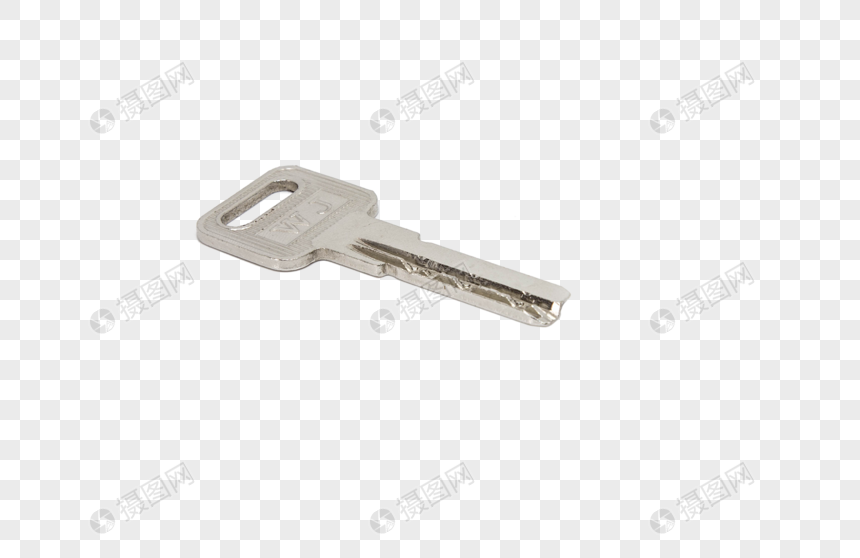key: (186, 161, 576, 331)
